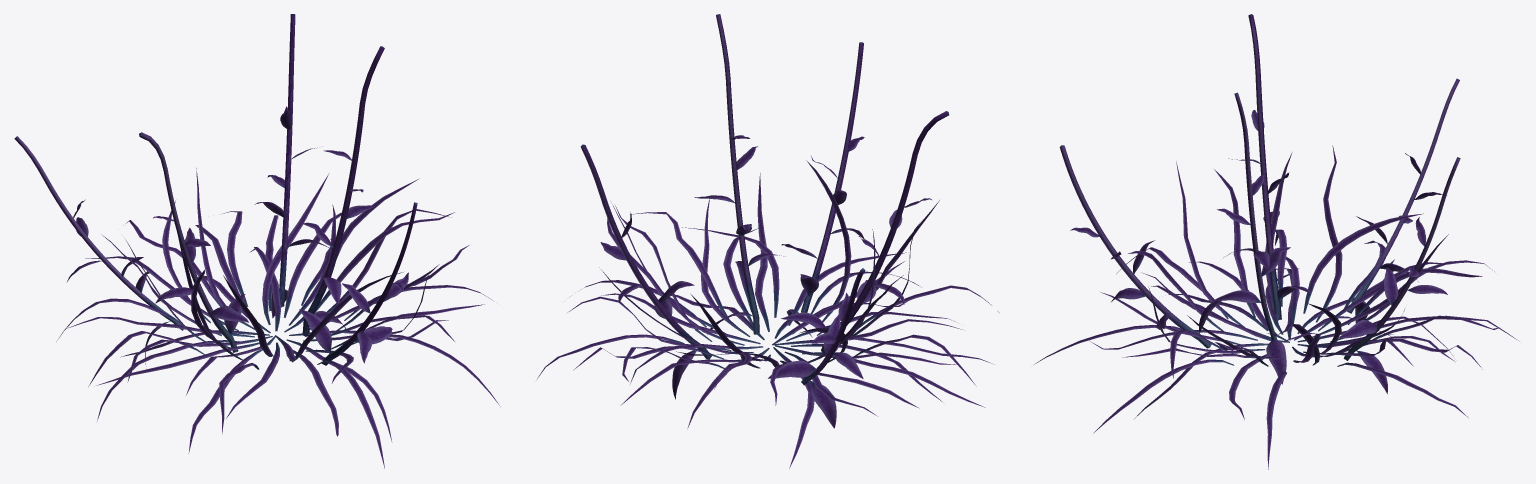
File: flowers_short_stems.glb
The picture shows the model from 3 angles, left to right: view 1: azimuth 30°, elevation 25°; view 2: azimuth 150°, elevation 25°; view 3: azimuth 270°, elevation 25°; orthographic projection.
Parts seen in each view (by area): view 1: stems.1; view 2: stems.1; view 3: stems.1.
Boxes of the visible parts, box(x1,y1,x2,y2) form: stems.1: box(14, 14, 500, 468); stems.1: box(537, 14, 999, 468); stems.1: box(1034, 14, 1519, 469).
Bounding box in the file's own units: 1.62 × 1.3 × 1.66.
1 material, 1 textured.
